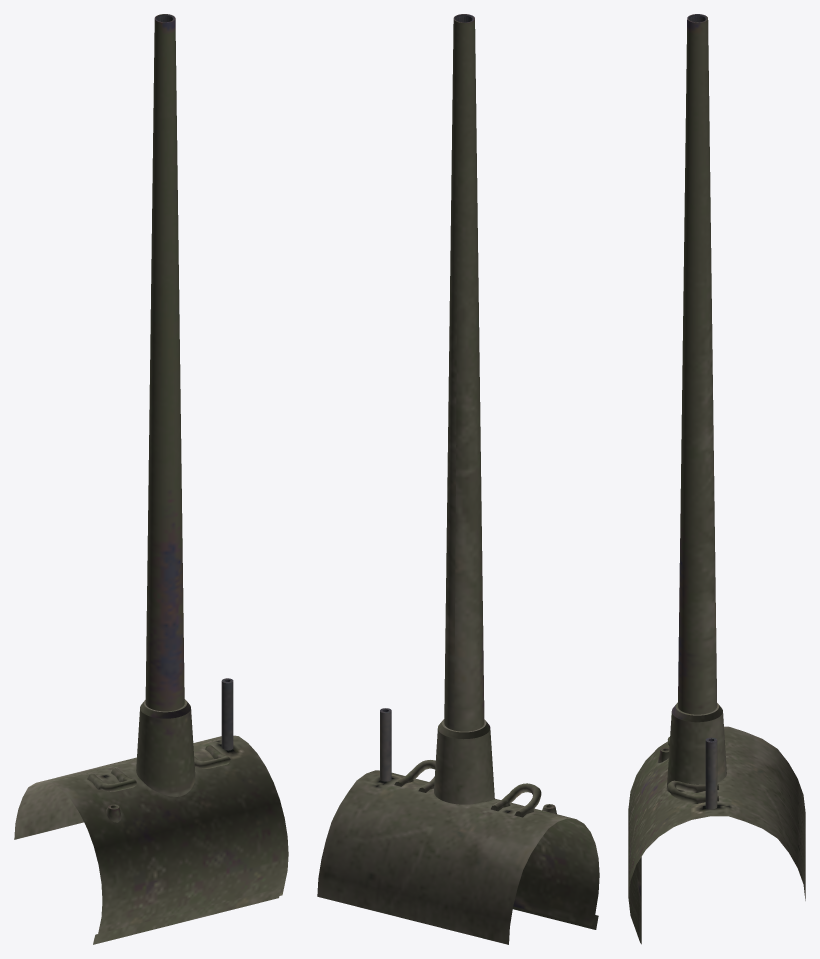
The model's file is Gun_02.glb.
3 renders of one model, left to right at view 1: azimuth 30°, elevation 25°; view 2: azimuth 150°, elevation 25°; view 3: azimuth 270°, elevation 25°, orthographic. The views are drawn at different scales.
Parts seen in each view (by area): view 1: set_0_group_0; view 2: set_0_group_0; view 3: set_0_group_0.
Boxes of the visible parts, box(x1,y1,x2,y2) form: set_0_group_0: box(14, 14, 288, 944); set_0_group_0: box(317, 14, 599, 944); set_0_group_0: box(628, 14, 805, 944).
Size of the model in its own units: 0.6015 by 2.68 by 0.485.
Materials: 1 (1 with a texture image).
